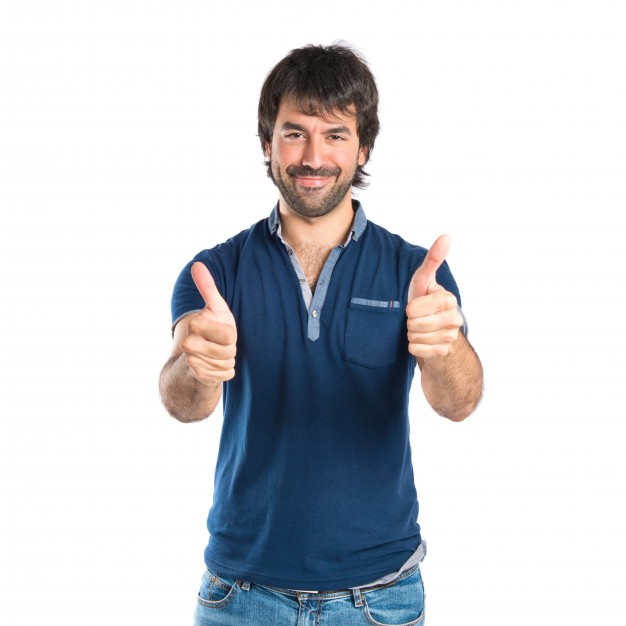thumbsup: (405, 234, 462, 358), (181, 261, 236, 385)
